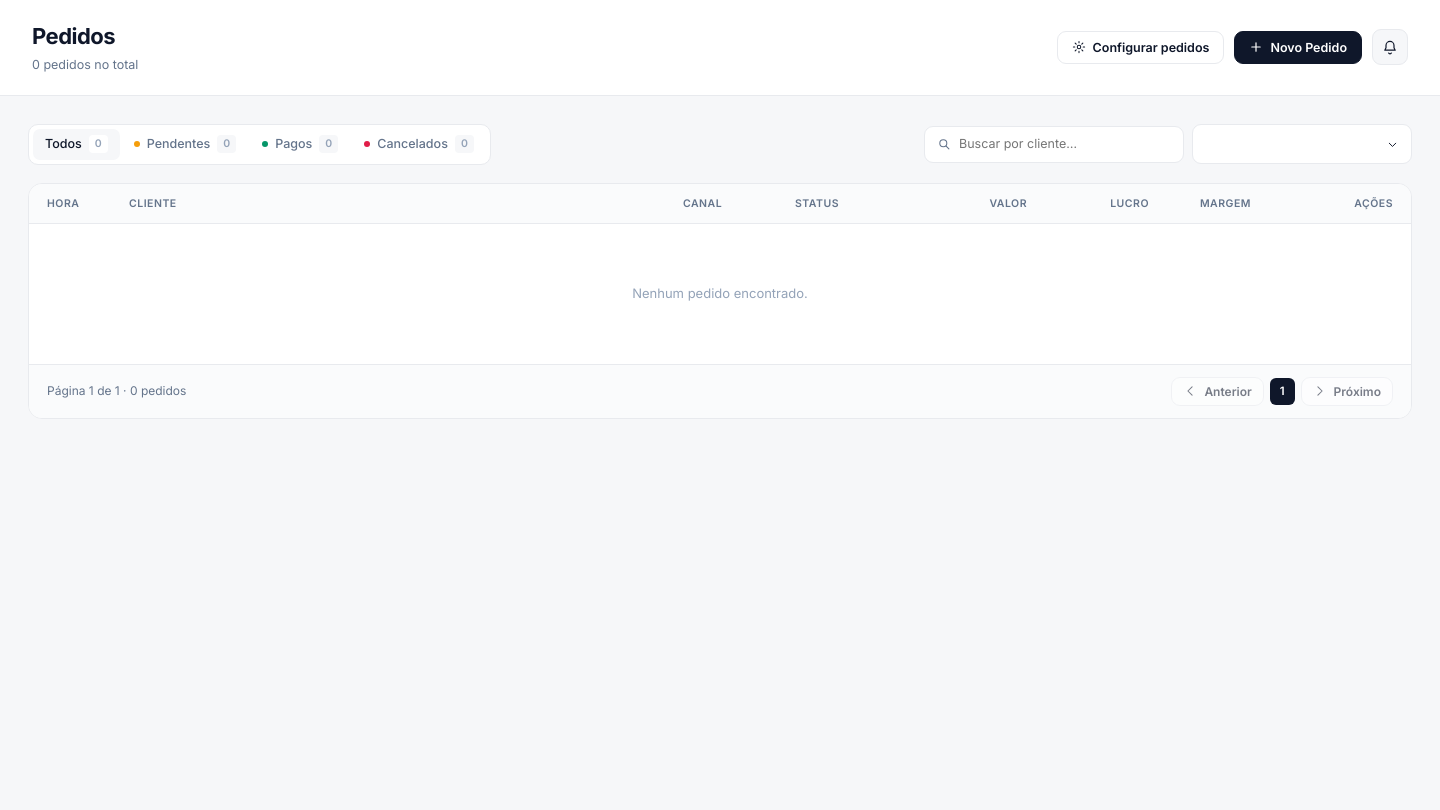
OrdersView › should show the backend error inside the modal and keep it open on failure
The image size is (1440, 810).
Click the button with test id "new-order-button". click: point(1298, 47)
box: [1234,31,1362,64]
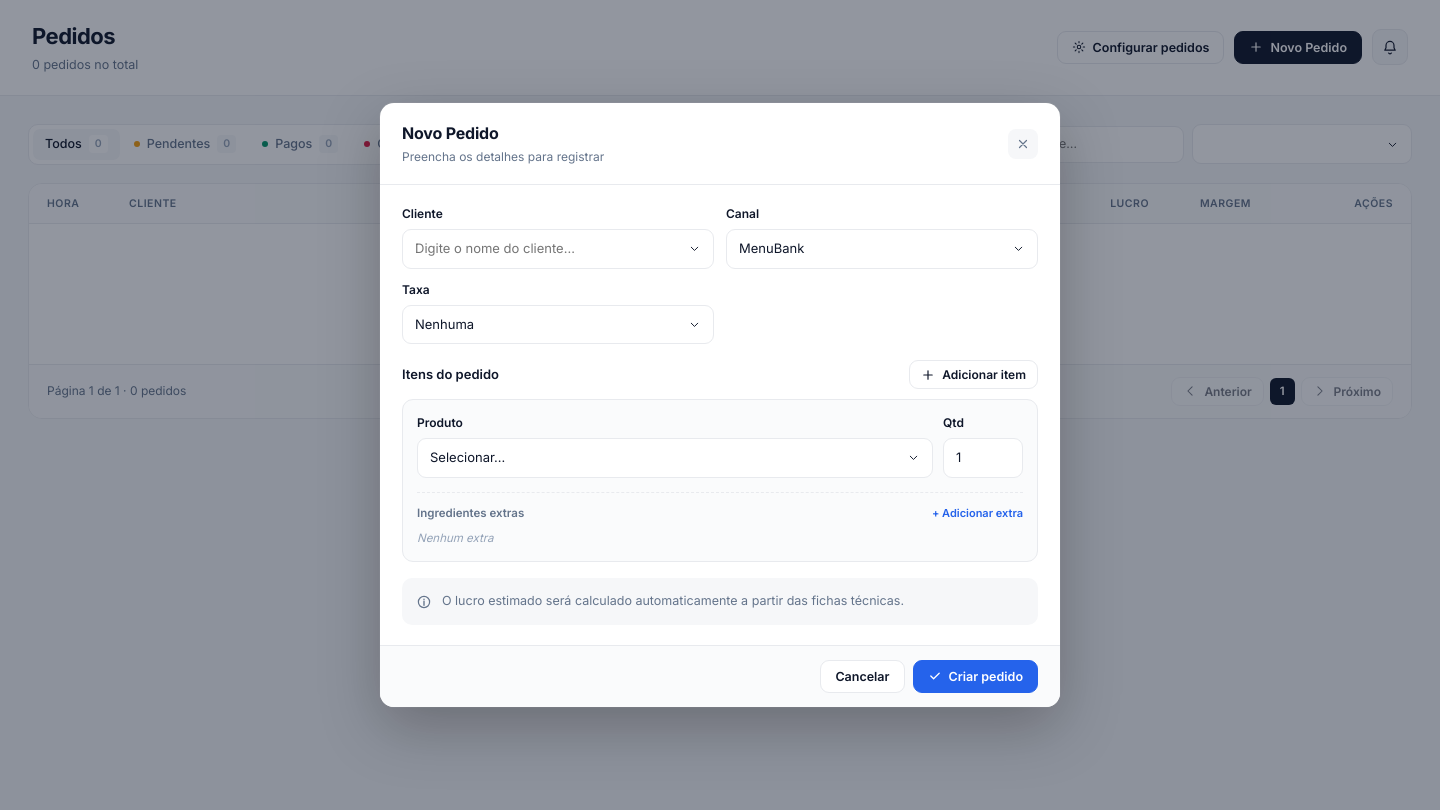
Type "Maria" into the dropdown with test id "order-customer-input". click: point(548, 249)
box: [415,235,680,263]
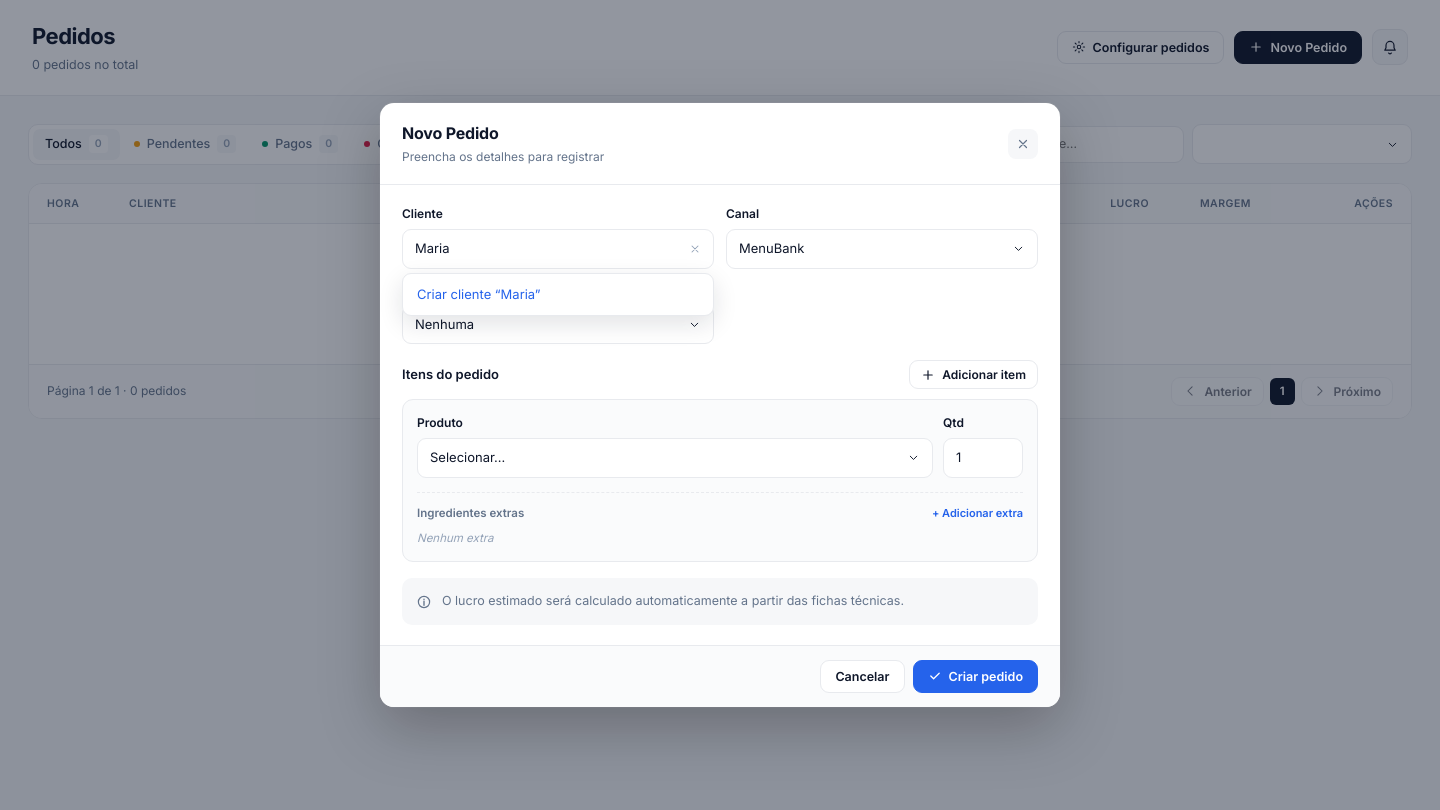
Select "Açaí 330ml — R$ 20,00" in the dropdown with test id "order-item-0-product-select". click: point(664, 458)
box: [430,444,899,472]
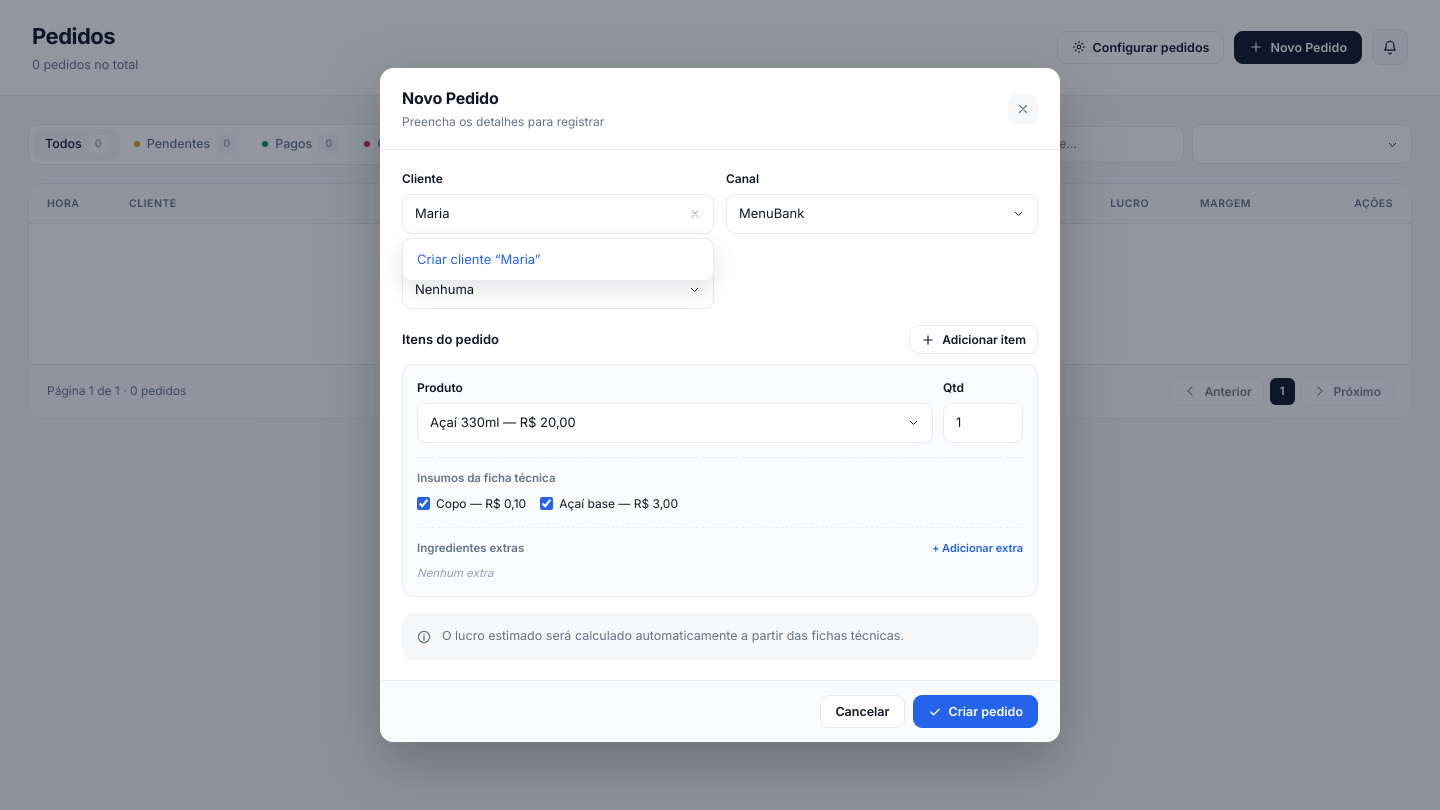
Submit the form, box [402,170,1038,660]
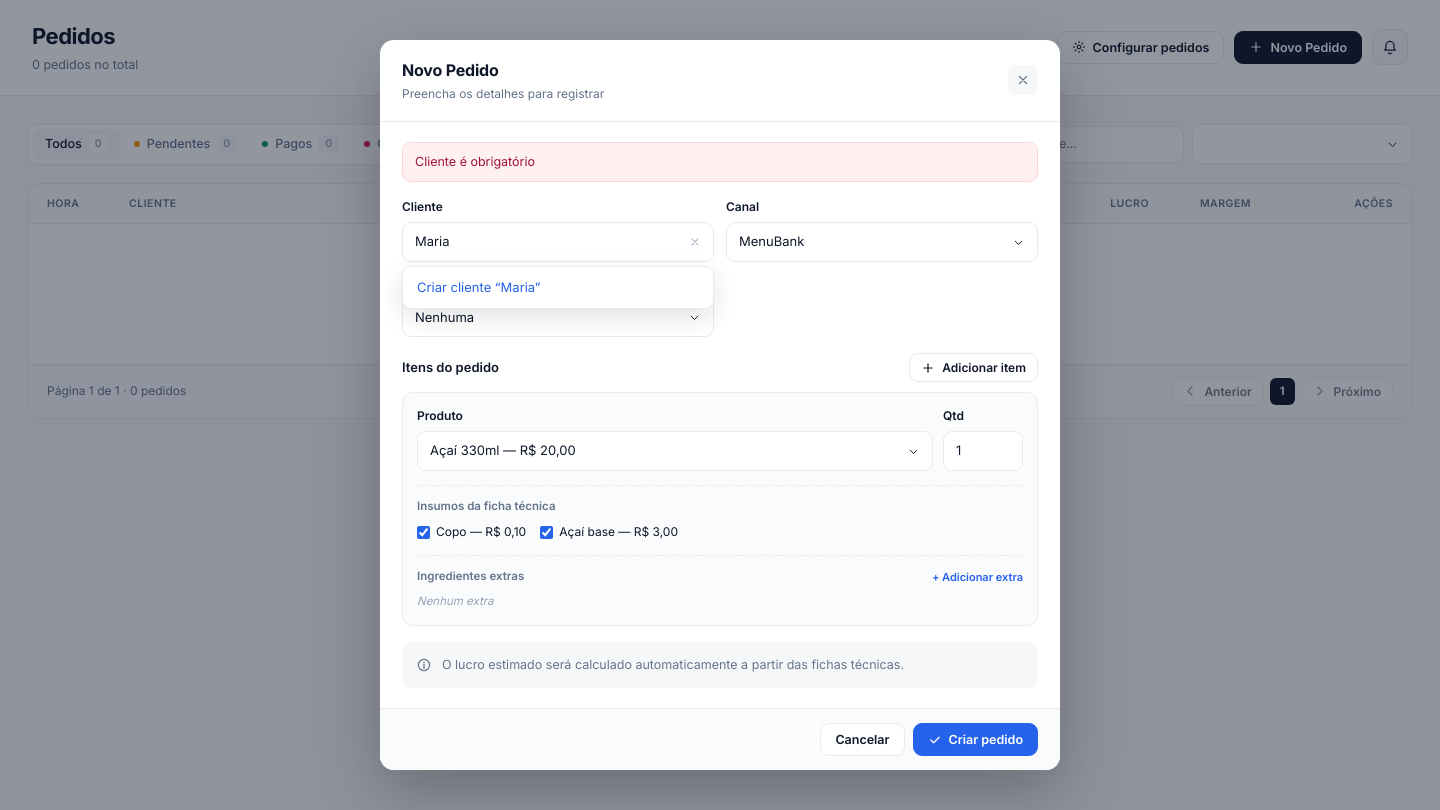
Expected: the text "Novo Pedido" is shown, [402,60,498,80]
Expected: the text with test id "order-modal-error" reads "Cliente é obrigatório", [415,154,535,169]
